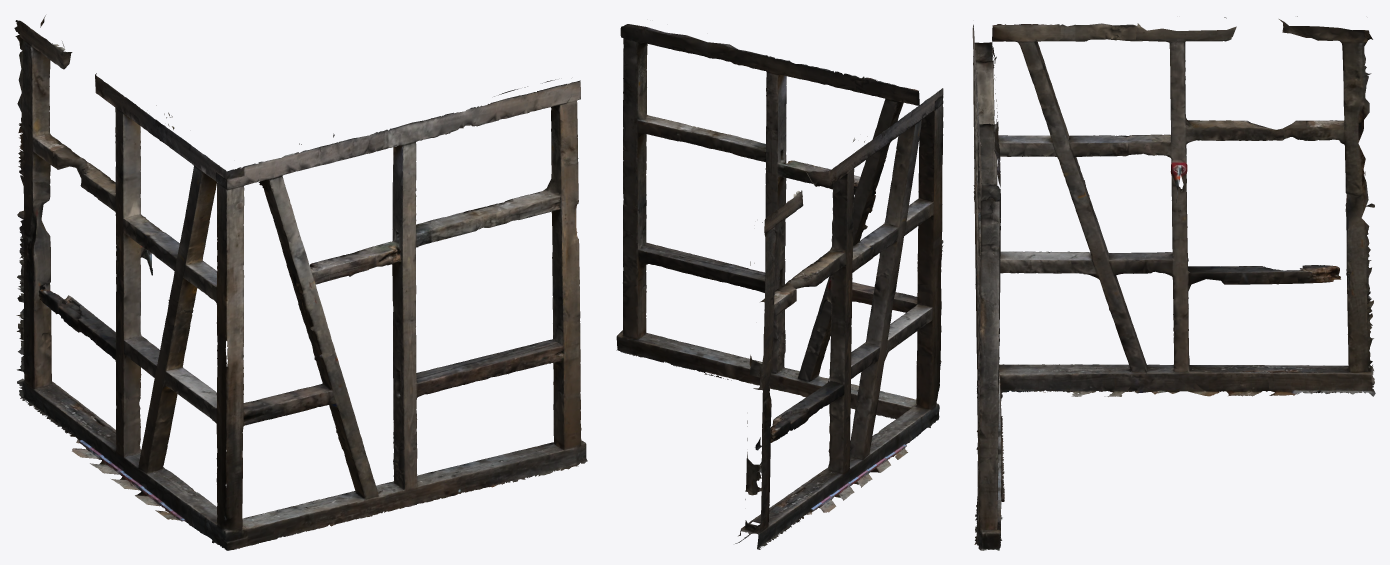
3 views of the same model, side by side, from view 1: azimuth 30°, elevation 25°; view 2: azimuth 150°, elevation 25°; view 3: azimuth 270°, elevation 25° (orthographic). The views are drawn at different scales.
Visible parts, largest first — view 1: Mesh_0_Part_0; view 2: Mesh_0_Part_0; view 3: Mesh_0_Part_0.
Boxes of the visible parts, <box> form: Mesh_0_Part_0: <box>14,15,587,550</box>; Mesh_0_Part_0: <box>616,24,943,549</box>; Mesh_0_Part_0: <box>972,16,1375,550</box>.
Size of the model in its own units: 2.1 by 2.04 by 2.04.
Materials: 1 (1 with a texture image).
